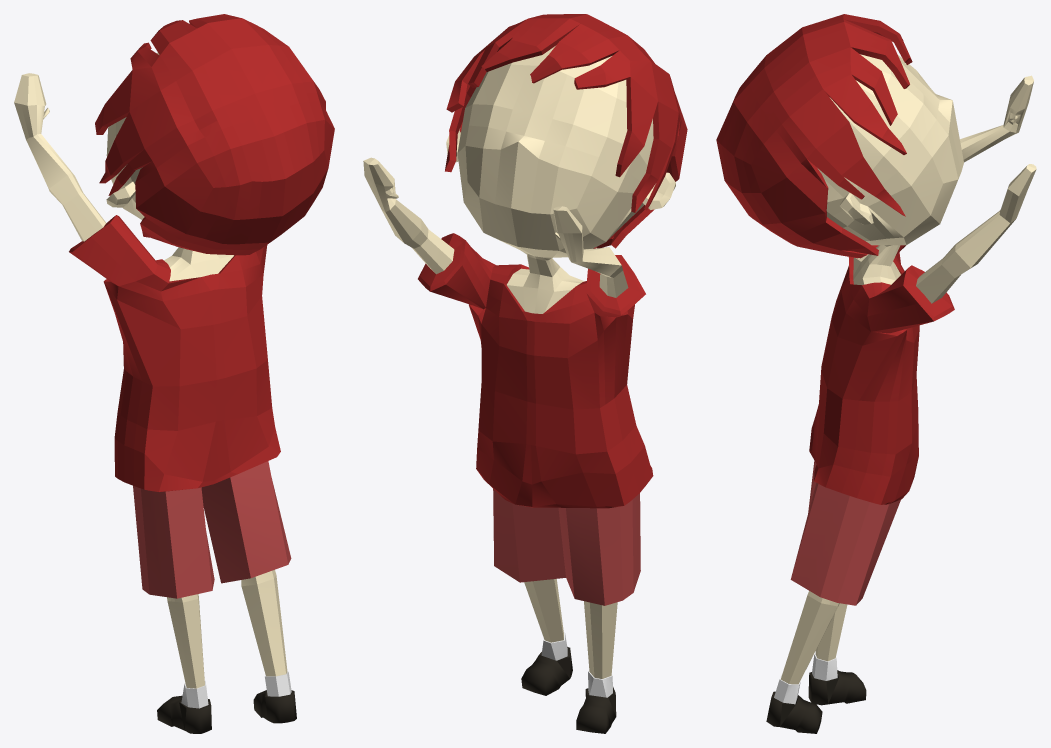
The model's file is shoppingCartCharacter.dae.
3 renders of one model, left to right at view 1: azimuth 30°, elevation 25°; view 2: azimuth 150°, elevation 25°; view 3: azimuth 270°, elevation 25°, orthographic.
Parts seen in each view (by area): view 1: CartCharacter; view 2: CartCharacter; view 3: CartCharacter.
Boxes of the visible parts, <box> form: CartCharacter: <box>14,14,334,733</box>; CartCharacter: <box>363,14,687,733</box>; CartCharacter: <box>716,14,1036,733</box>.
Size of the model in its own units: 44.97 by 135 by 56.93.
Materials: 1 (1 with a texture image).
